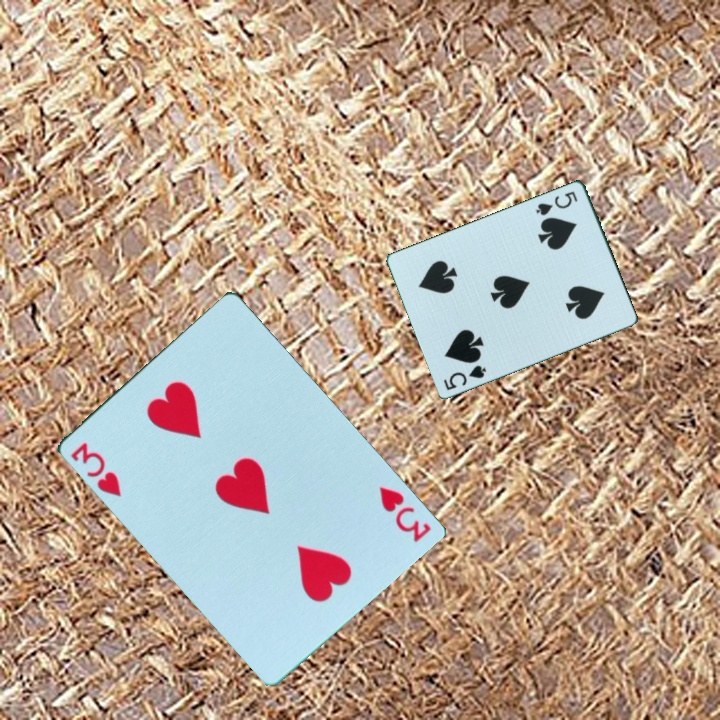3h: (374, 482, 433, 546), (66, 438, 124, 500)
5s: (440, 361, 490, 393), (532, 187, 581, 218)
